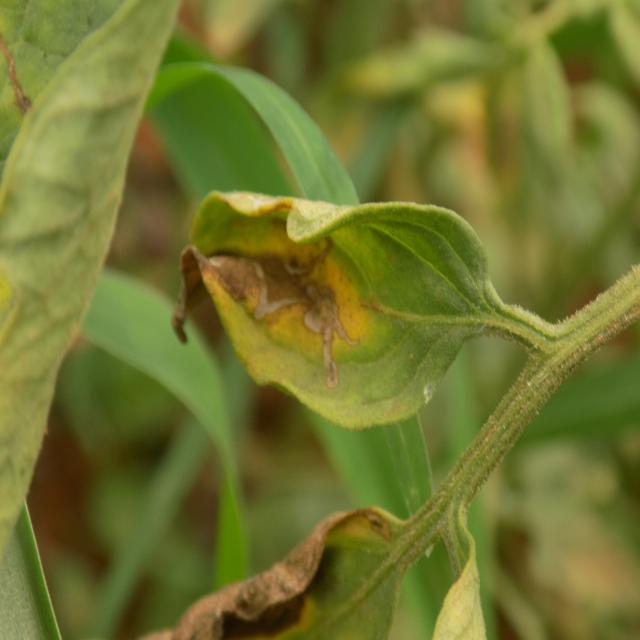tomato_early blight: (172, 188, 499, 424)
